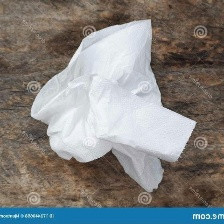tissue: (25, 13, 200, 195)
